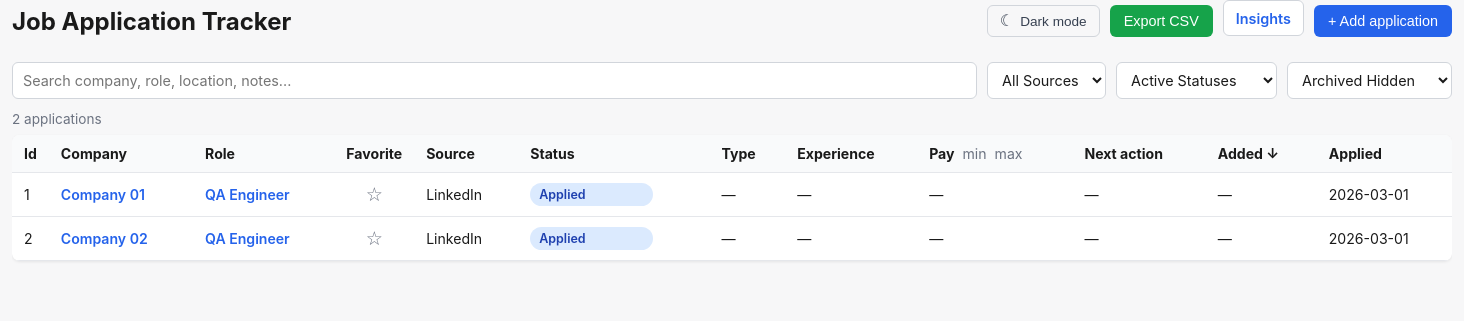
Test: changing a status from the list (KAN-59) › reverts and explains when the save fails
The width and height of the screenshot is (1464, 321).
Expected: the link "Company 01" is shown, [61, 186, 145, 203]
Select "Ghosted" in the dropdown named "Status for " at (592, 194), box [530, 183, 653, 206]
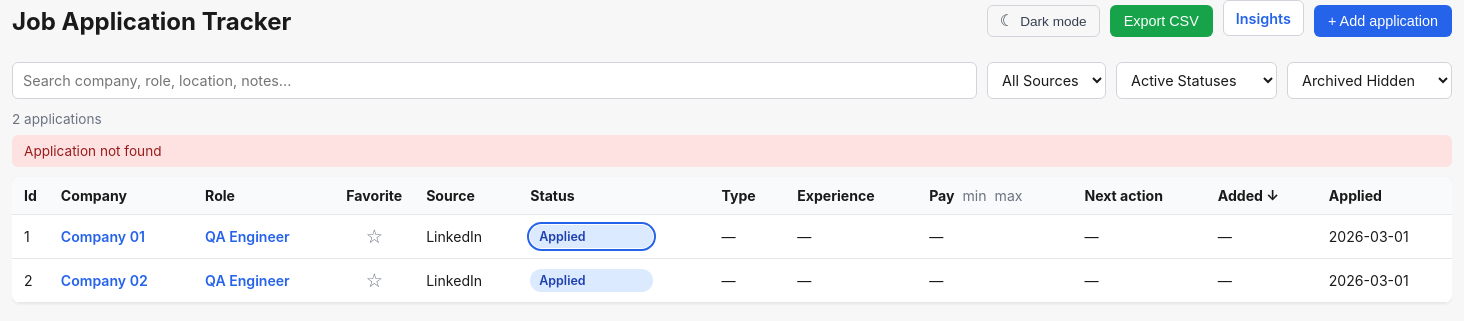
Expected: the text "Application not found" is shown, [12, 135, 1452, 167]
